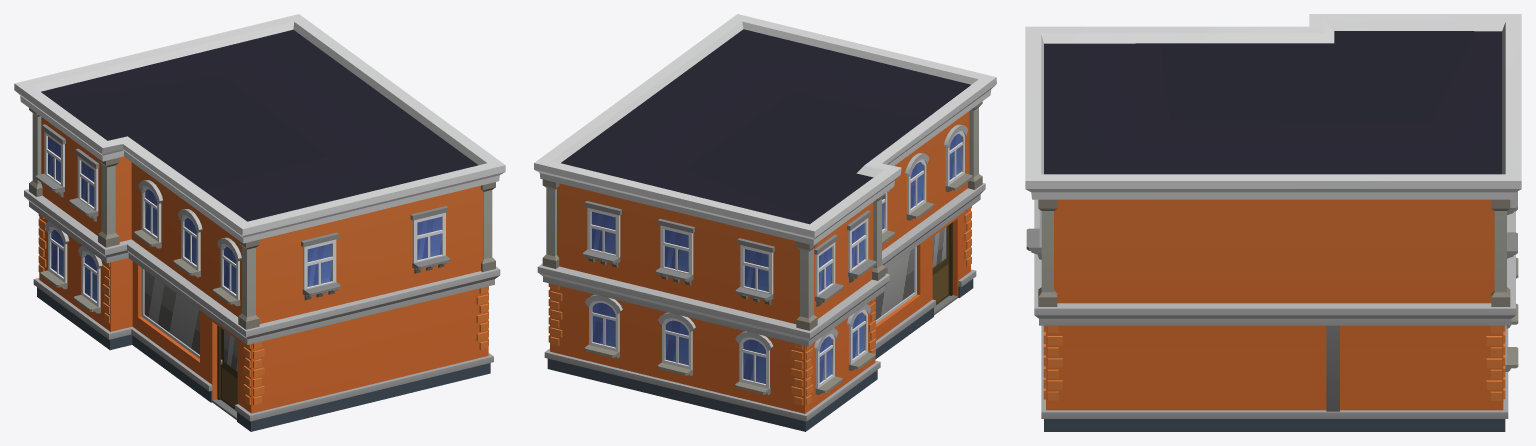
The model's file is Building_1_2_F.glb.
3 renders of one model, left to right at view 1: azimuth 30°, elevation 25°; view 2: azimuth 150°, elevation 25°; view 3: azimuth 270°, elevation 25°, orthographic. The views are drawn at different scales.
Visible parts, largest first — view 1: Building_1_2_F; view 2: Building_1_2_F; view 3: Building_1_2_F.
Boxes of the visible parts, x1,y1,x2,y2 form: Building_1_2_F: [14, 14, 505, 431]; Building_1_2_F: [534, 14, 996, 431]; Building_1_2_F: [1025, 14, 1521, 431].
Size of the model in its own units: 8.41 by 6 by 10.57.
Materials: 3 (3 with a texture image).
